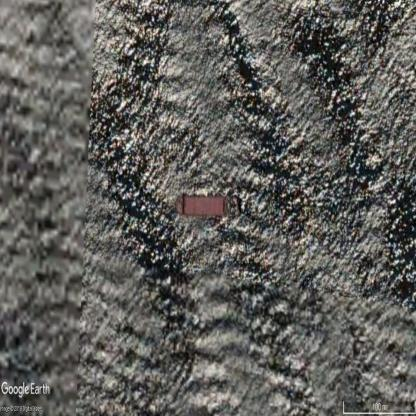ship: (174, 196, 226, 216)
